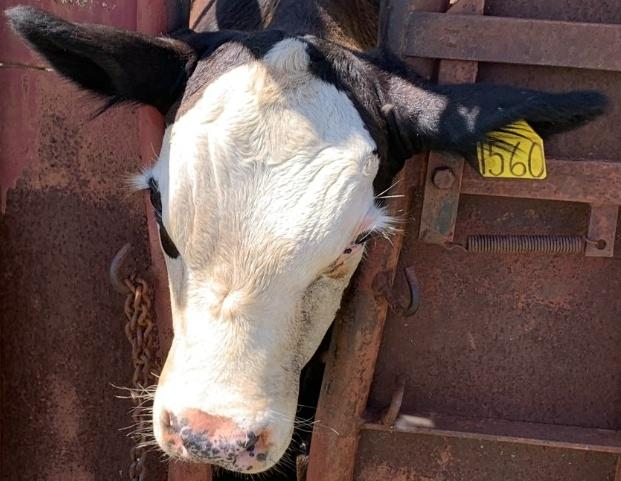muzzles: (139, 387, 291, 474)
